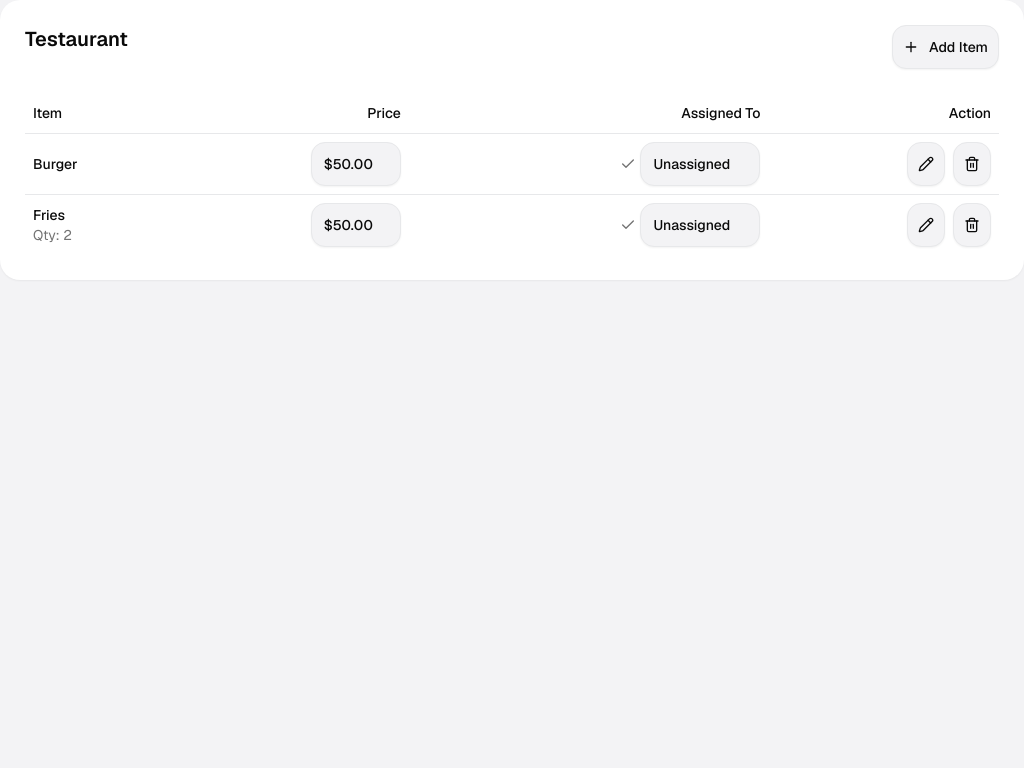
Test: ItemAssignment › Edit Item › opens edit dialog when edit button is clicked
The width and height of the screenshot is (1024, 768).
Note: Click edit button for first item
Click the button titled "click to edit" in the row of "Burger" at (356, 164), box [311,142,401,186]
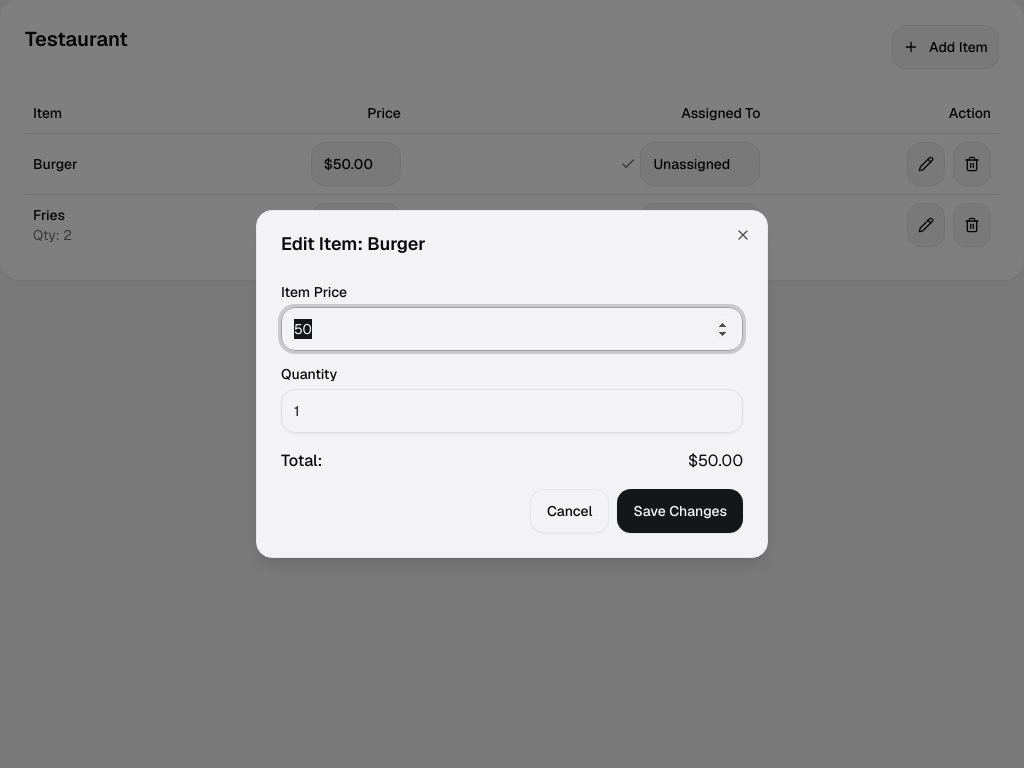
expect the heading "Edit Item: Burger" is shown: met, box [281,232,426,255]
